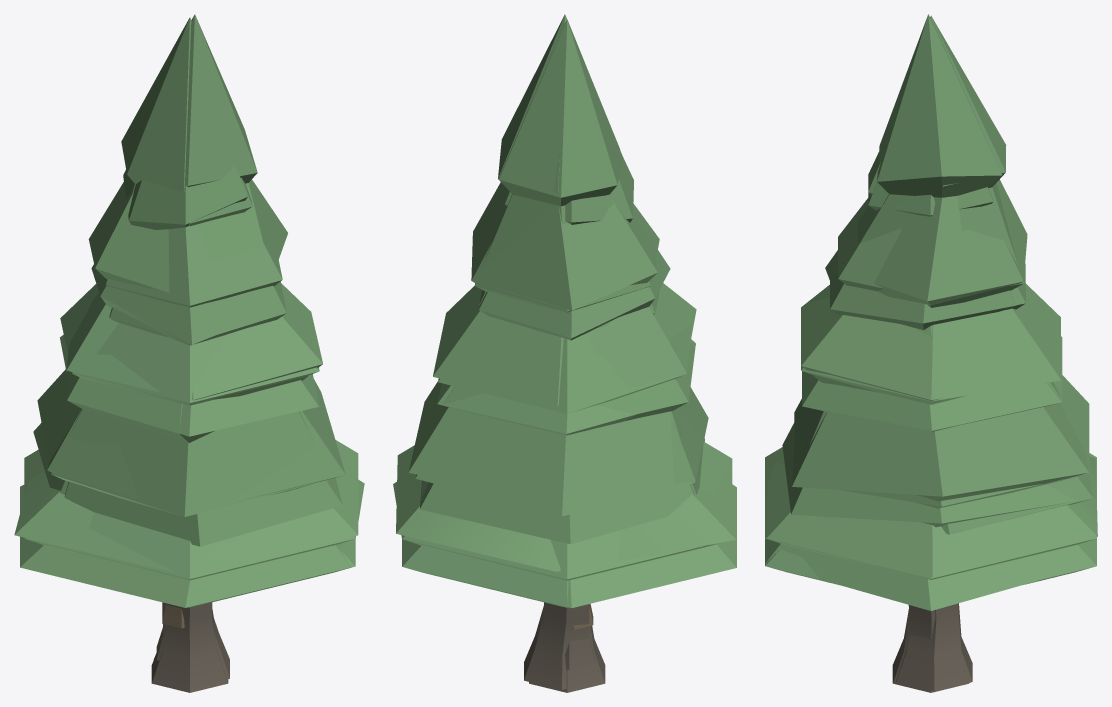
The model's file is Pine_Tree.fbx.
3 views of the same model, side by side, from view 1: azimuth 30°, elevation 25°; view 2: azimuth 150°, elevation 25°; view 3: azimuth 270°, elevation 25° (orthographic).
Visible parts, largest first — view 1: polySurface1, polySurface8, polySurface25, polySurface9; view 2: polySurface8, polySurface1, polySurface9, polySurface25; view 3: polySurface8, polySurface9, polySurface25, polySurface1.
Boxes of the visible parts, <box> form: polySurface1: <box>24,17,355,692</box>; polySurface8: <box>14,14,358,679</box>; polySurface25: <box>20,165,364,660</box>; polySurface9: <box>33,177,355,607</box>; polySurface8: <box>396,14,736,689</box>; polySurface1: <box>402,19,732,692</box>; polySurface9: <box>402,190,695,607</box>; polySurface25: <box>393,157,736,669</box>; polySurface8: <box>766,14,1097,691</box>; polySurface9: <box>765,182,1096,584</box>; polySurface25: <box>765,152,1075,610</box>; polySurface1: <box>765,15,1096,692</box>.
Size of the model in its own units: 0.4811 by 0.8739 by 0.3982.
